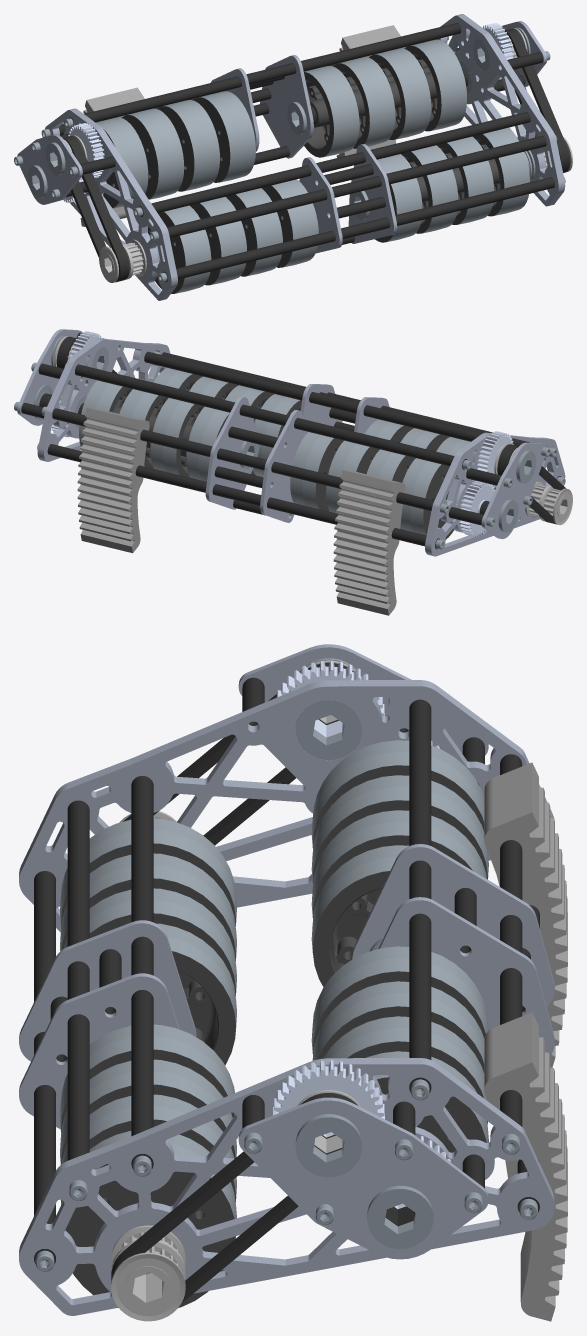
3 renders of one model, top to bottom at view 1: azimuth 30°, elevation 25°; view 2: azimuth 150°, elevation 25°; view 3: azimuth 270°, elevation 25°, orthographic. The views are drawn at different scales.
Parts seen in each view (by area): view 1: 3" OD 1/2" Hex ID Stealth Wheel 35A (am-4716) 80A (×16), 15.375" Pin (×3), 05-01 - Main Plate Right, 05-02 - Main Plate Left, 14.875" Pin, 60t 5mm Belt (×2), 05-07 - Back Center Plate Right, .5" Hex ID 1.125" OD Flanged Bearing (217-2734) (×4), 05-04 - Gear Plate Left, 05-05 - Front Center Plate Right, 05-06 - Front Center Plate Left, 2" Pin (×3) (+7 smaller); view 2: 3" OD 1/2" Hex ID Stealth Wheel 35A (am-4716) 80A (×15), 15.375" Pin (×3), Part 9, Part 1, 05-01 - Main Plate Right, 14.875" Pin (×2), 05-02 - Main Plate Left, 05-08 - Back Center Plate Left, 05-07 - Back Center Plate Right, 05-04 - Gear Plate Left, 36t 20dp Aluminum 1/2" Hex Bore Gear (217-3214) (×2), 05-03 - Gear Plate Right (+7 smaller); view 3: 3" OD 1/2" Hex ID Stealth Wheel 35A (am-4716) 80A (×16), 05-01 - Main Plate Right, 05-02 - Main Plate Left, 15.375" Pin (×3), 05-03 - Gear Plate Right, Part 1, 14.875" Pin (×2), Part 9, .5" Hex ID 1.125" OD Flanged Bearing (217-2734) (×3), 05-08 - Back Center Plate Left, 05-07 - Back Center Plate Right, 60t 5mm Belt (×2) (+5 smaller).
Part boxes in pixels (box(x1,y1,x2,y2)): 3" OD 1/2" Hex ID Stealth Wheel 35A (am-4716) 80A (×16): box(96, 39, 529, 293); 15.375" Pin (×3): box(69, 23, 554, 282); 05-01 - Main Plate Right: box(438, 14, 565, 206); 05-02 - Main Plate Left: box(45, 108, 177, 300); 14.875" Pin: box(167, 135, 546, 237); 60t 5mm Belt (×2): box(63, 28, 570, 282); 05-07 - Back Center Plate Right: box(260, 55, 313, 158); .5" Hex ID 1.125" OD Flanged Bearing (217-2734) (×4): box(27, 39, 489, 198); 05-04 - Gear Plate Left: box(17, 134, 82, 204); 05-05 - Front Center Plate Right: box(348, 144, 397, 243); 05-06 - Front Center Plate Left: box(299, 157, 342, 253); 2" Pin (×3): box(254, 146, 385, 218); 3" OD 1/2" Hex ID Stealth Wheel 35A (am-4716) 80A (×15): box(79, 368, 470, 539); 15.375" Pin (×3): box(47, 351, 482, 549); Part 9: box(333, 470, 405, 615); Part 1: box(77, 407, 149, 553); 05-01 - Main Plate Right: box(37, 338, 170, 461); 14.875" Pin (×2): box(52, 352, 491, 510); 05-02 - Main Plate Left: box(425, 432, 565, 556); 05-08 - Back Center Plate Left: box(260, 410, 307, 522); 05-07 - Back Center Plate Right: box(205, 396, 259, 509); 05-04 - Gear Plate Left: box(481, 442, 546, 539); 36t 20dp Aluminum 1/2" Hex Bore Gear (217-3214) (×2): box(459, 431, 513, 536); 05-03 - Gear Plate Right: box(17, 329, 82, 425); 3" OD 1/2" Hex ID Stealth Wheel 35A (am-4716) 80A (×16): box(60, 740, 488, 1307); 05-01 - Main Plate Right: box(19, 1058, 554, 1315); 05-02 - Main Plate Left: box(19, 680, 554, 931); 15.375" Pin (×3): box(34, 699, 431, 1264); 05-03 - Gear Plate Right: box(238, 1097, 488, 1259); Part 1: box(484, 1012, 567, 1321); 14.875" Pin (×2): box(67, 754, 522, 1160); Part 9: box(484, 762, 567, 1067); .5" Hex ID 1.125" OD Flanged Bearing (217-2734) (×3): box(295, 700, 433, 1248); 05-08 - Back Center Plate Left: box(352, 844, 554, 1006); 05-07 - Back Center Plate Right: box(378, 897, 554, 1055); 60t 5mm Belt (×2): box(111, 662, 357, 1303).
Size of the model in its own units: 0.4735 by 0.1453 by 0.2358.
